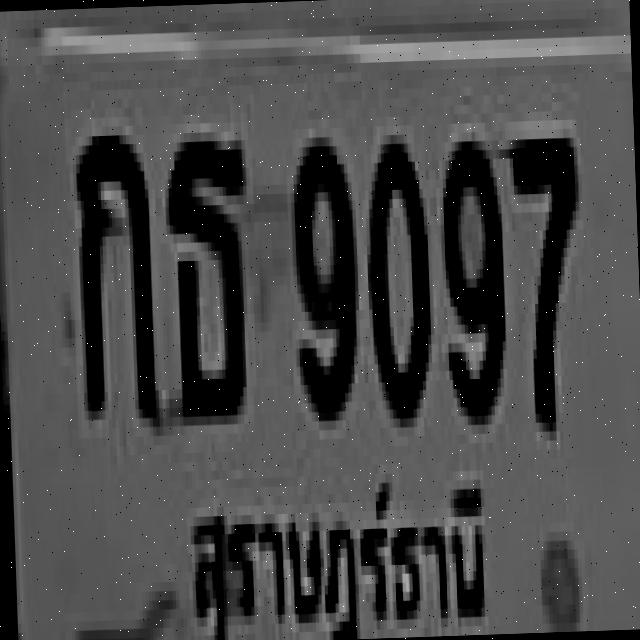0: (362, 125, 430, 419)
10GorGai: (71, 120, 152, 415)
33ThorThong: (162, 121, 250, 416)
7: (508, 128, 583, 423)
9: (288, 127, 355, 412), (438, 131, 504, 416)
SuratThani: (174, 463, 499, 640)
